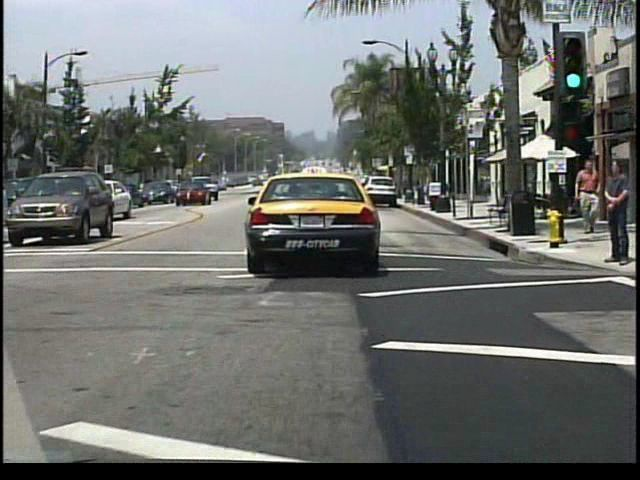person: (605, 157, 630, 268), (574, 159, 600, 234)
